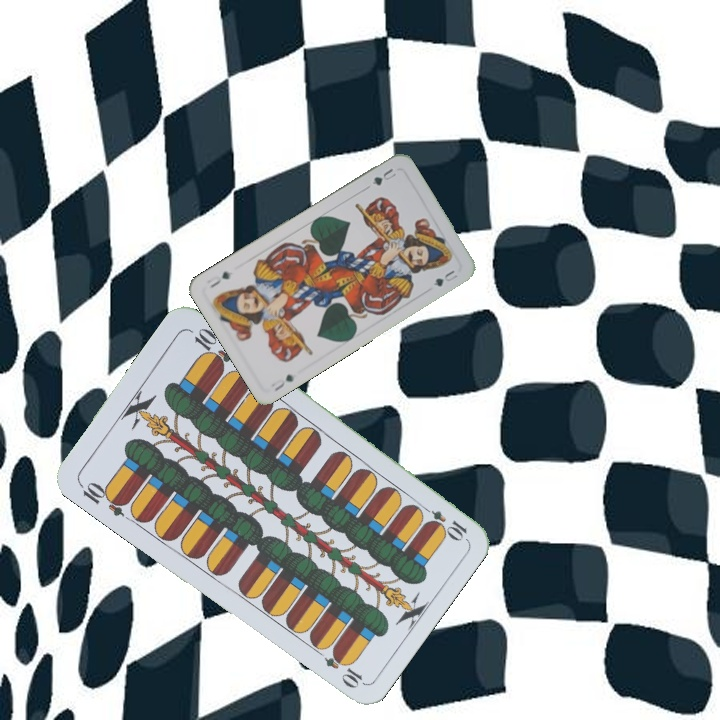E10: (75, 477, 131, 520), (415, 500, 470, 542)
GU: (363, 164, 399, 191), (270, 370, 297, 394)
